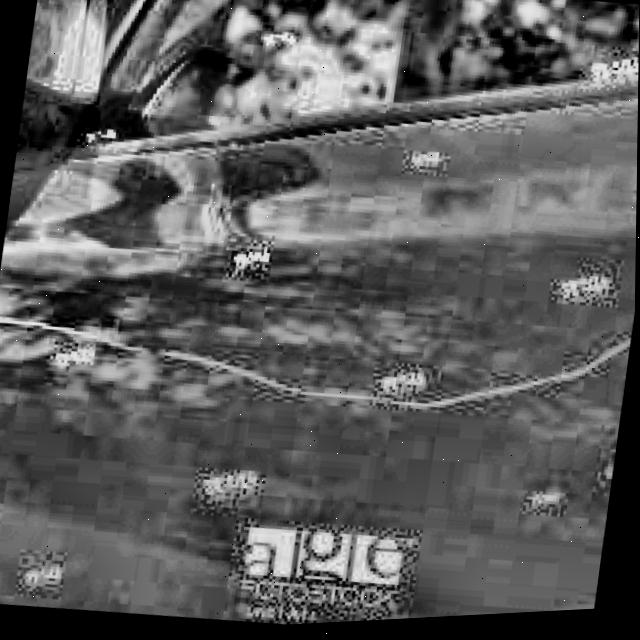door_scratch: (279, 358, 534, 452)
